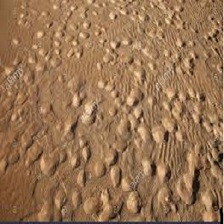clay_soil: (10, 16, 206, 209)
